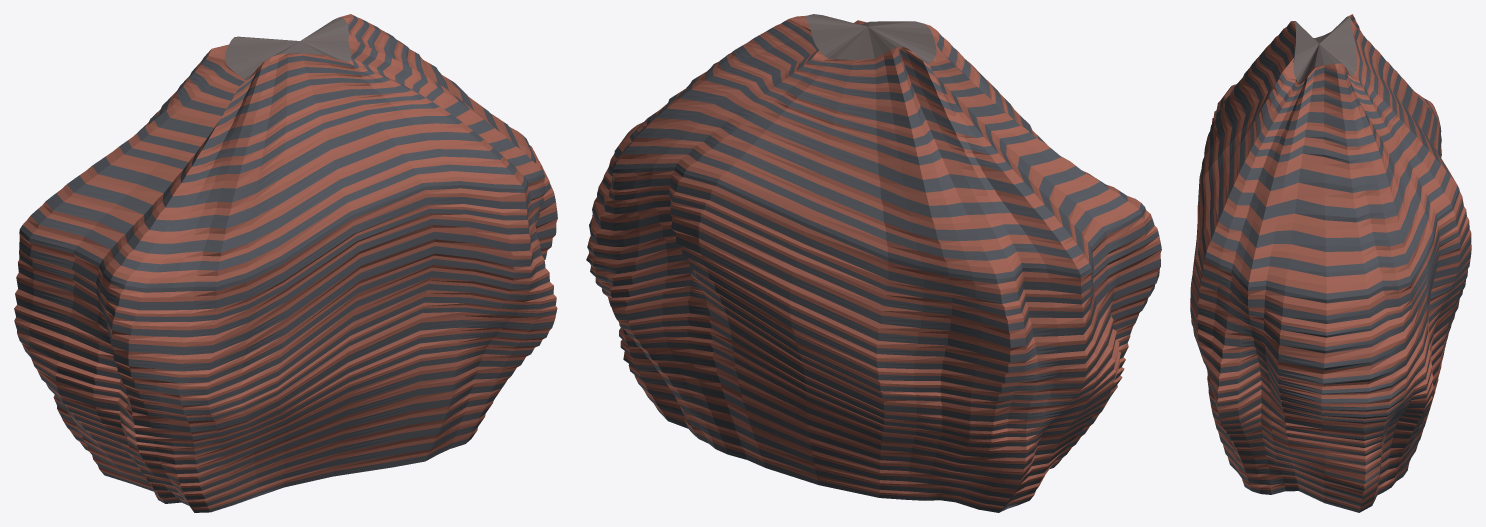
Rendered from banded-iron-formation.glb.
3 views of the same model, side by side, from view 1: azimuth 30°, elevation 25°; view 2: azimuth 150°, elevation 25°; view 3: azimuth 270°, elevation 25° (orthographic). The views are drawn at different scales.
Visible parts, largest first — view 1: one_solid_bif_specimen_with_unequal_folded_fine_laminae_and_; view 2: one_solid_bif_specimen_with_unequal_folded_fine_laminae_and_; view 3: one_solid_bif_specimen_with_unequal_folded_fine_laminae_and_.
Part boxes in pixels (left/top/right/bottom): one_solid_bif_specimen_with_unequal_folded_fine_laminae_and_: left=14, top=14, right=557, bottom=512; one_solid_bif_specimen_with_unequal_folded_fine_laminae_and_: left=586, top=14, right=1161, bottom=512; one_solid_bif_specimen_with_unequal_folded_fine_laminae_and_: left=1190, top=14, right=1471, bottom=512.
Bounding box in the file's own units: 0.8663 × 0.672 × 0.4413.
